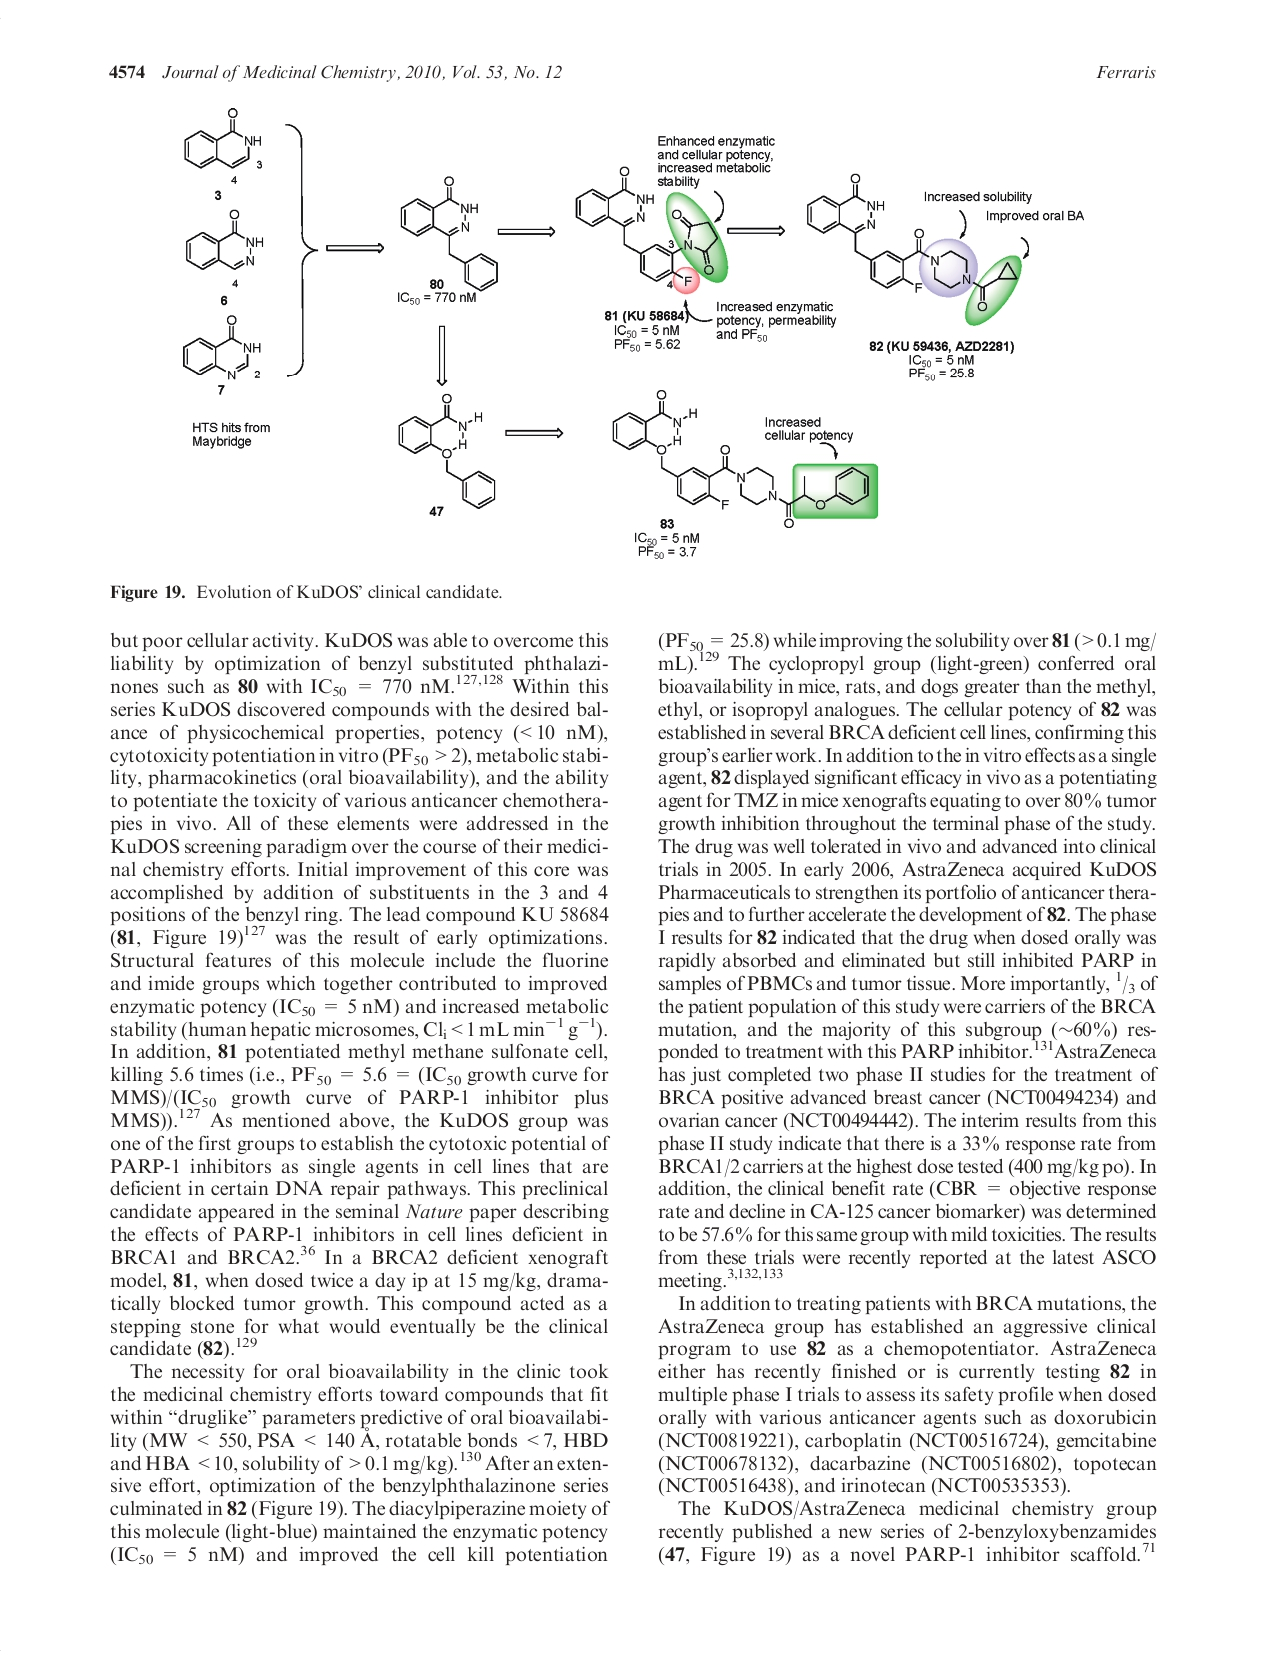exist_molecular: (602, 380, 872, 531), (801, 169, 1023, 317), (573, 164, 719, 289), (399, 174, 501, 297), (394, 394, 501, 509), (176, 309, 265, 380), (178, 205, 270, 274), (180, 105, 266, 169)
